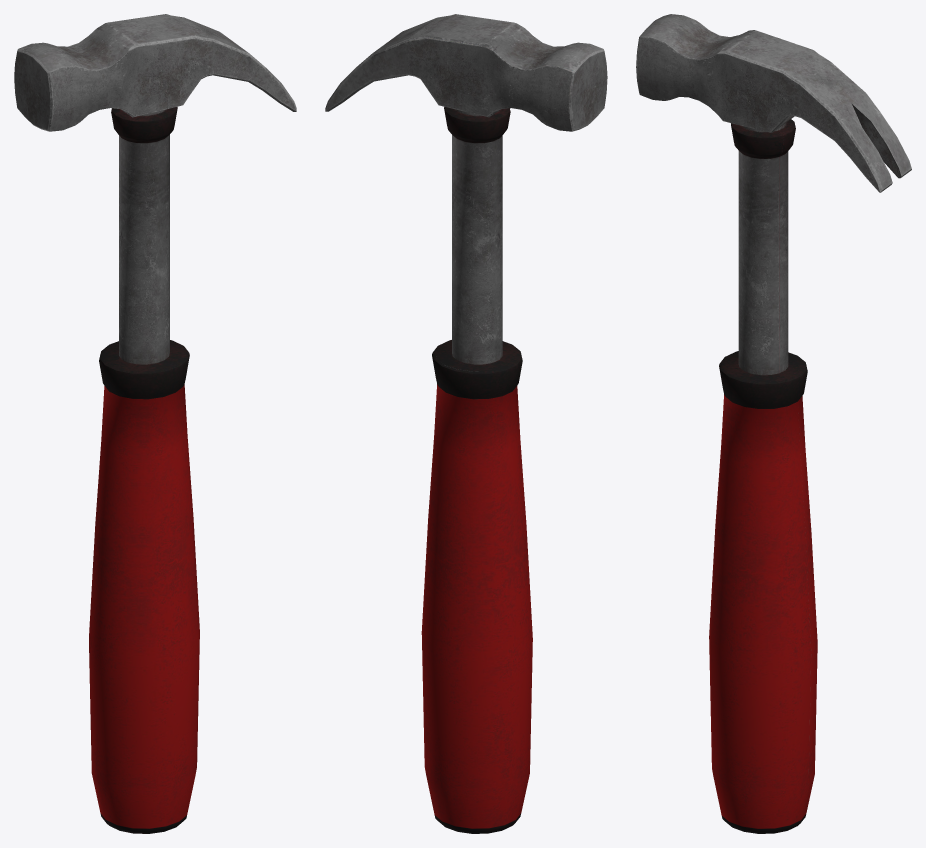
Rendered from cc0-melee-weapons-pack-glb--hammer.glb.
3 renders of one model, left to right at view 1: azimuth 30°, elevation 25°; view 2: azimuth 150°, elevation 25°; view 3: azimuth 330°, elevation 25°, orthographic. The views are drawn at different scales.
Parts seen in each view (by area): view 1: Hammer; view 2: Hammer; view 3: Hammer.
Part boxes in pixels (x1,y1,x2,y2): Hammer: (14, 14, 296, 833); Hammer: (325, 14, 607, 833); Hammer: (636, 14, 911, 833).
Size of the model in its own units: 0.0838 by 0.2548 by 0.0316.
1 material, 1 textured.
